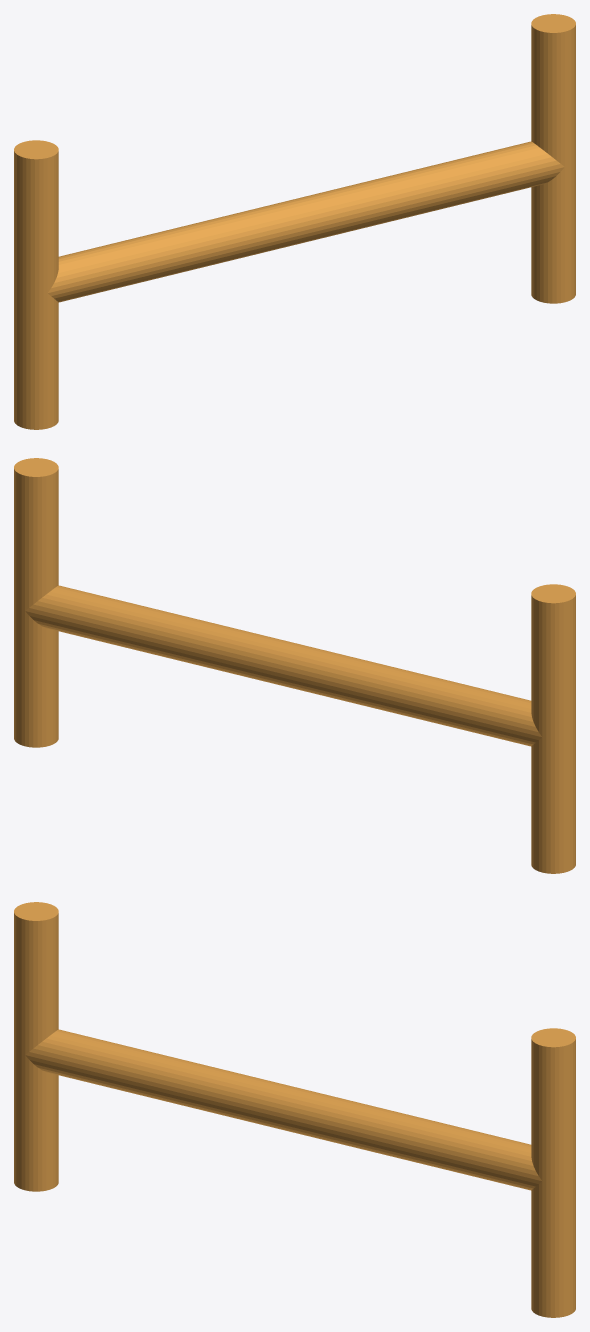
The model's file is crossbar.gltf.
The picture shows the model from 3 angles, top to bottom: view 1: azimuth 30°, elevation 25°; view 2: azimuth 150°, elevation 25°; view 3: azimuth 330°, elevation 25°; orthographic projection.
Visible parts, largest first — view 1: Cylinder.001, Cylinder, Cylinder.002; view 2: Cylinder.001, Cylinder, Cylinder.002; view 3: Cylinder.001, Cylinder.002, Cylinder.
Boxes of the visible parts, x1,y1,x2,y2 form: Cylinder.001: (47, 141, 564, 302); Cylinder: (14, 140, 58, 429); Cylinder.002: (531, 14, 575, 303); Cylinder.001: (25, 585, 542, 746); Cylinder: (531, 584, 575, 873); Cylinder.002: (14, 458, 58, 747); Cylinder.001: (25, 1029, 542, 1190); Cylinder.002: (531, 1028, 575, 1317); Cylinder: (14, 902, 58, 1191).
Bounding box in the file's own units: 2.15 × 1 × 0.15.
